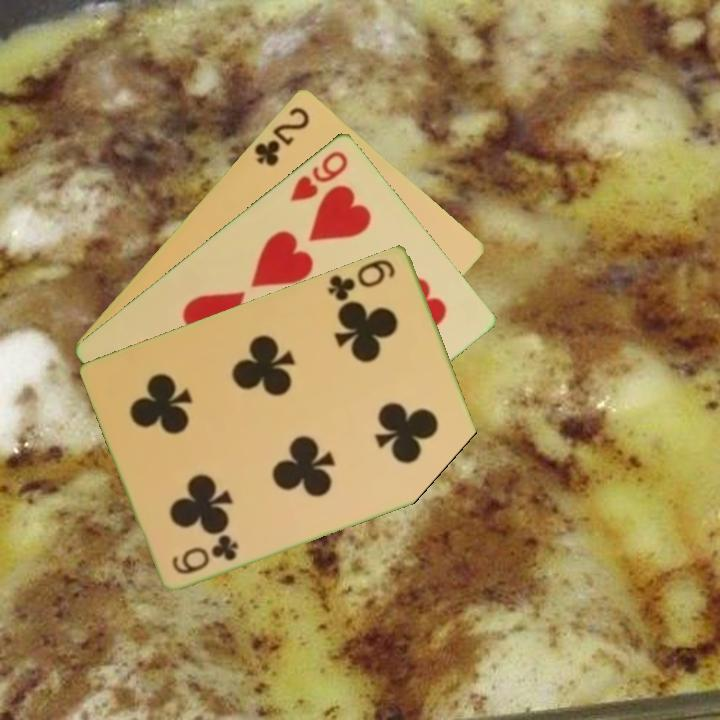2c: (250, 102, 313, 169)
6c: (324, 255, 399, 304), (168, 531, 242, 577)
9h: (287, 146, 351, 204)
